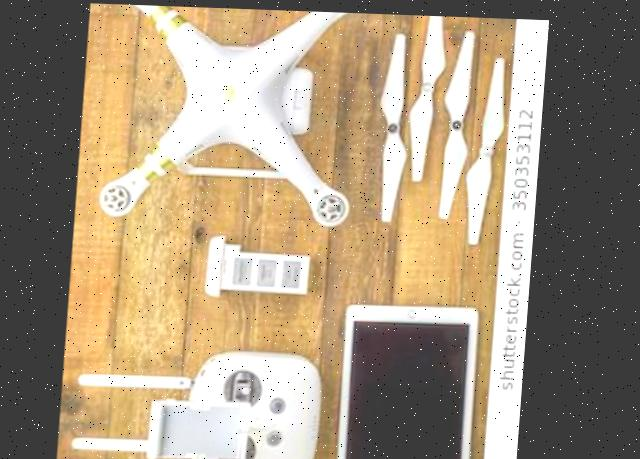drone: (96, 4, 549, 459)
